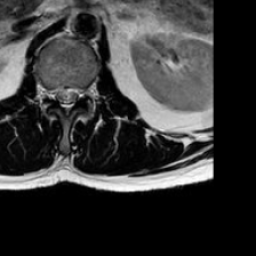CCS_normal: (62, 74, 71, 124)
LFS_normal: (80, 75, 89, 105)
LLS_normal: (71, 74, 80, 112)
RFS_normal: (43, 76, 53, 107)
RLS_normal: (53, 75, 62, 108)
